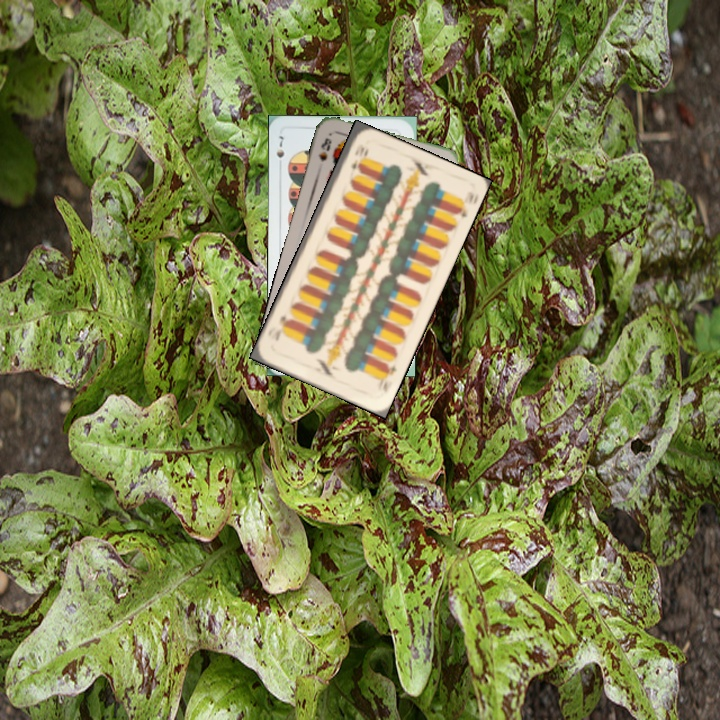E10: (379, 360, 399, 395), (348, 140, 367, 172)
S7: (273, 132, 287, 171)
S8: (314, 134, 334, 164)
